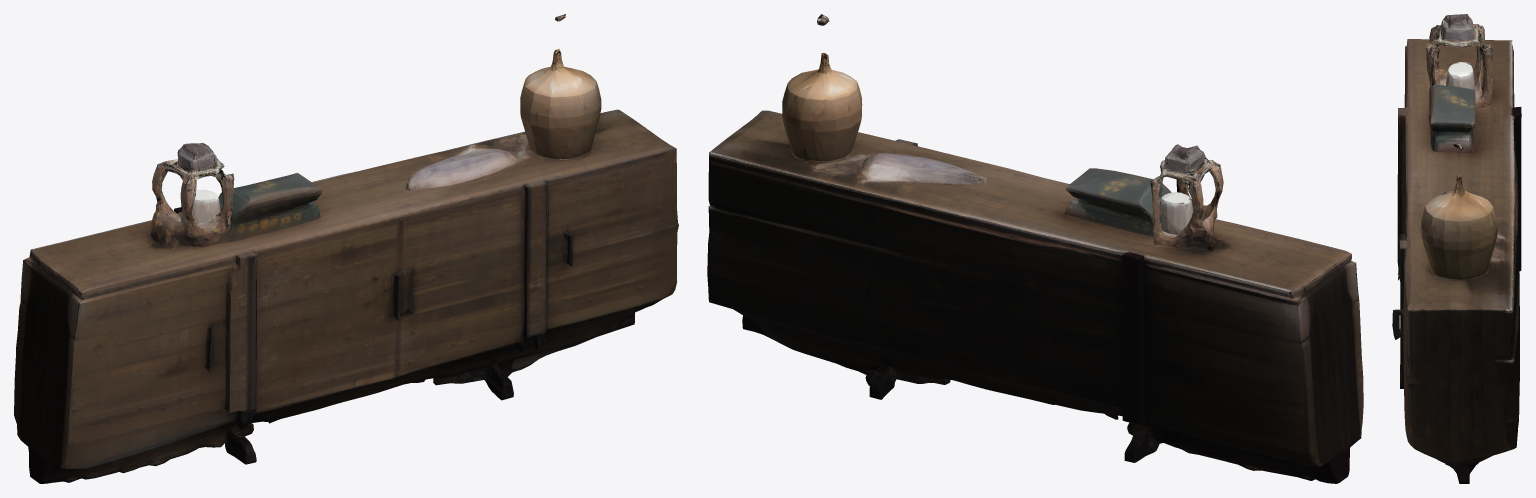
File: reconviagen.glb
3 views of the same model, side by side, from view 1: azimuth 30°, elevation 25°; view 2: azimuth 150°, elevation 25°; view 3: azimuth 270°, elevation 25° (orthographic). The views are drawn at different scales.
Parts seen in each view (by area): view 1: world; view 2: world; view 3: world.
Part boxes in pixels (x1=…): world: x1=14, y1=14, x2=678, y2=483; world: x1=707, y1=14, x2=1363, y2=483; world: x1=1392, y1=14, x2=1521, y2=483.
Bounding box in the file's own units: 0.9886 × 0.5329 × 0.1919.
1 material, 1 textured.
